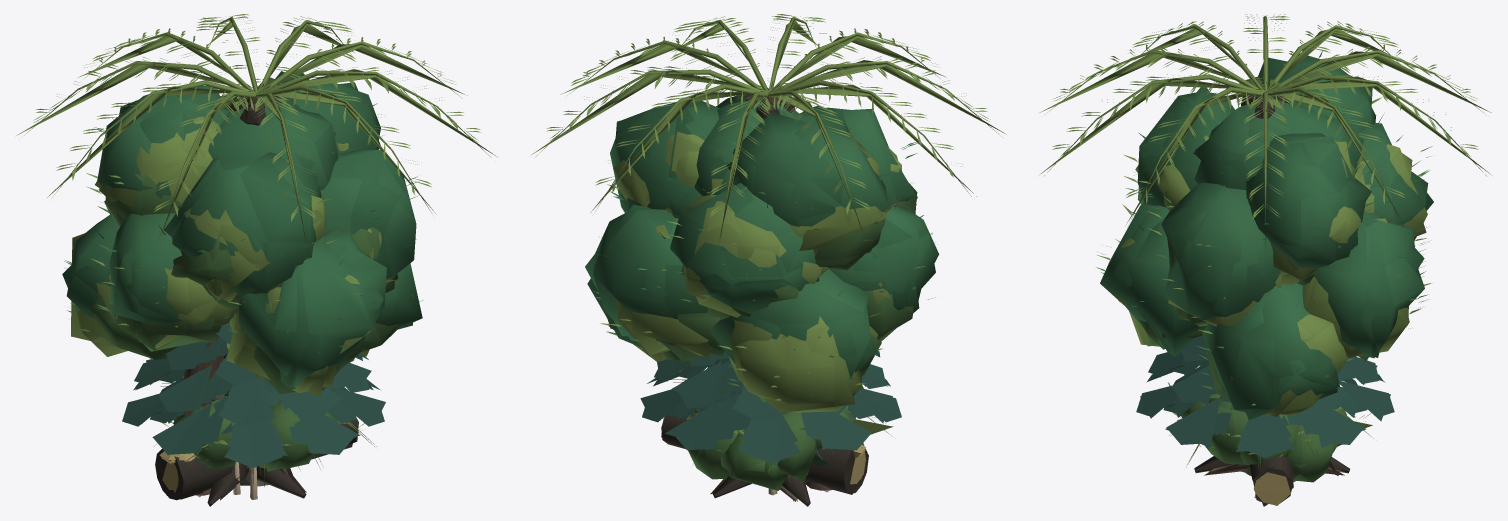
Rendered from biome-kit-props.glb.
3 renders of one model, left to right at view 1: azimuth 30°, elevation 25°; view 2: azimuth 150°, elevation 25°; view 3: azimuth 270°, elevation 25°, orthographic.
Parts seen in each view (by area): view 1: rainforest-canopy-near, conifer-near, palm-near, palm-far, rainforest-canopy-far, birch-near, conifer-far, broadleaf-near, birch-far, broadleaf-far, shrub-near, fallen-log-near (+1 smaller); view 2: rainforest-canopy-near, birch-near, palm-far, palm-near, rainforest-canopy-far, conifer-near, birch-far, conifer-far, broadleaf-near, shrub-near, fallen-log-near, broadleaf-far (+2 smaller); view 3: rainforest-canopy-near, rainforest-canopy-far, palm-far, palm-near, conifer-far, birch-near, birch-far, shrub-near, conifer-near, fallen-log-near, broadleaf-near, shrub-far.
Part boxes in pixels (left/top/right/bottom): rainforest-canopy-near: left=65, top=69, right=422, bottom=500; conifer-near: left=122, top=103, right=384, bottom=485; palm-near: left=19, top=14, right=491, bottom=495; palm-far: left=16, top=16, right=496, bottom=497; rainforest-canopy-far: left=62, top=71, right=412, bottom=481; birch-near: left=76, top=84, right=419, bottom=392; conifer-far: left=135, top=97, right=385, bottom=457; broadleaf-near: left=67, top=174, right=414, bottom=394; birch-far: left=71, top=77, right=422, bottom=474; broadleaf-far: left=68, top=184, right=407, bottom=474; shrub-near: left=173, top=389, right=337, bottom=470; fallen-log-near: left=155, top=419, right=358, bottom=500; rainforest-canopy-near: left=587, top=88, right=939, bottom=501; birch-near: left=597, top=134, right=931, bottom=501; palm-far: left=531, top=17, right=1006, bottom=492; palm-near: left=535, top=14, right=1001, bottom=490; rainforest-canopy-far: left=585, top=102, right=935, bottom=500; conifer-near: left=642, top=102, right=901, bottom=463; birch-far: left=595, top=126, right=932, bottom=485; conifer-far: left=640, top=98, right=892, bottom=452; broadleaf-near: left=607, top=153, right=934, bottom=500; shrub-near: left=688, top=406, right=853, bottom=489; fallen-log-near: left=661, top=412, right=868, bottom=494; broadleaf-far: left=607, top=153, right=933, bottom=478; rainforest-canopy-near: left=1096, top=51, right=1429, bottom=475; rainforest-canopy-far: left=1104, top=56, right=1433, bottom=475; palm-far: left=1039, top=16, right=1491, bottom=246; palm-near: left=1044, top=14, right=1486, bottom=249; conifer-far: left=1140, top=96, right=1390, bottom=451; birch-near: left=1098, top=79, right=1430, bottom=472; birch-far: left=1097, top=76, right=1431, bottom=469; shrub-near: left=1181, top=394, right=1346, bottom=482; conifer-near: left=1136, top=350, right=1394, bottom=457; fallen-log-near: left=1250, top=454, right=1293, bottom=505; broadleaf-near: left=1131, top=174, right=1422, bottom=471; shrub-far: left=1197, top=398, right=1344, bottom=482.
Size of the model in its own units: 1.56 by 1.45 by 1.48.
